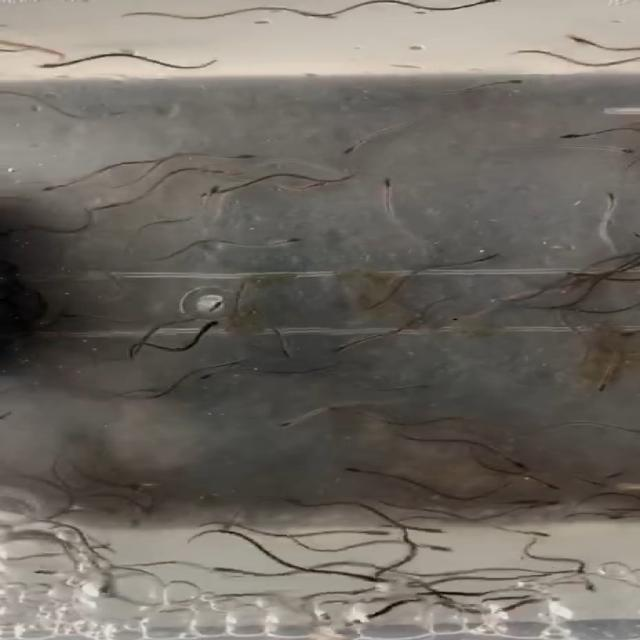active_glass_eel: (326, 398, 381, 422), (336, 132, 390, 154), (328, 458, 376, 479), (274, 338, 310, 366), (524, 468, 568, 488), (491, 450, 539, 468), (268, 233, 320, 249), (482, 78, 520, 98), (268, 418, 314, 434), (409, 376, 459, 390), (51, 54, 88, 72), (42, 174, 88, 188), (223, 568, 261, 584), (374, 183, 409, 200), (195, 318, 228, 336), (596, 196, 632, 212), (330, 337, 368, 352), (590, 375, 624, 391), (96, 194, 134, 208), (206, 185, 239, 201), (456, 254, 486, 271), (204, 354, 240, 368), (206, 368, 237, 382), (556, 561, 592, 573), (595, 465, 620, 482), (565, 126, 595, 140), (519, 528, 561, 538), (359, 527, 389, 541), (611, 144, 637, 160), (220, 162, 254, 174), (420, 542, 449, 556), (311, 177, 342, 190), (498, 496, 530, 508), (400, 525, 429, 538), (529, 498, 559, 510), (574, 580, 601, 592), (573, 476, 589, 488)
